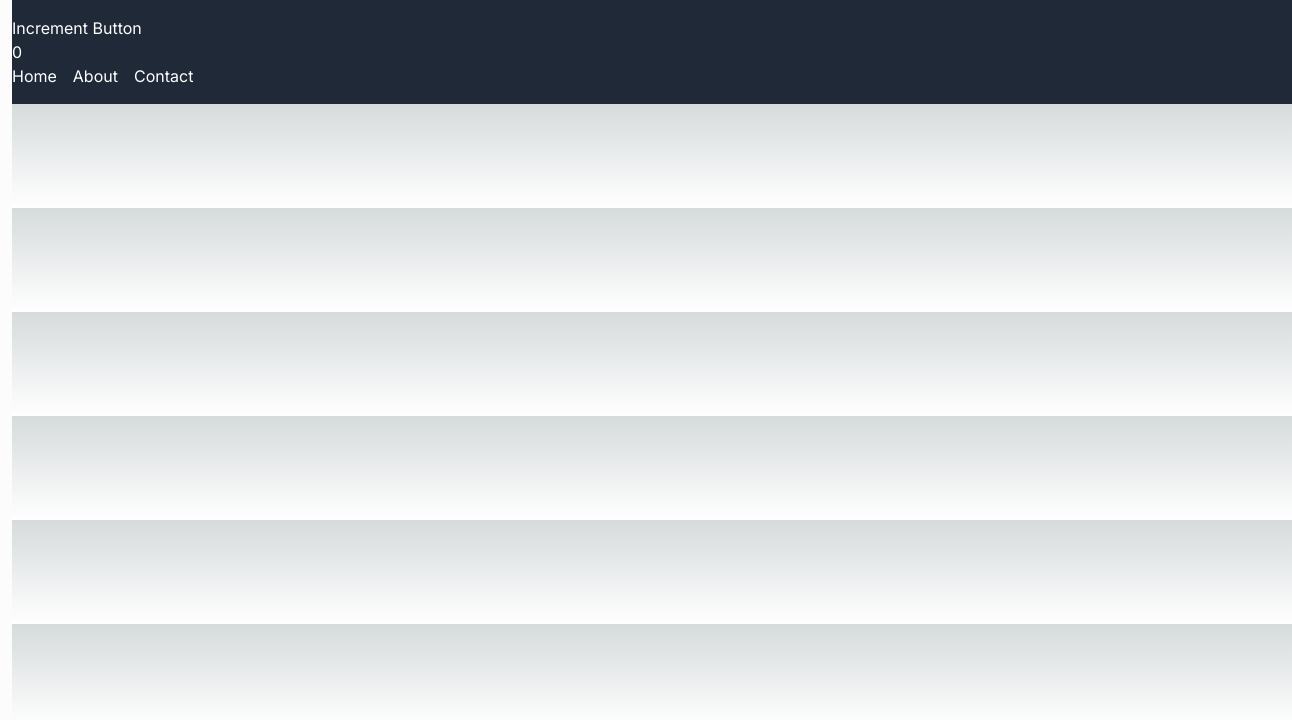
Test: checks for incrementation
# Click the button
Step 1. Click the button "Increment Button" → [77, 28], box [12,16,142,40]
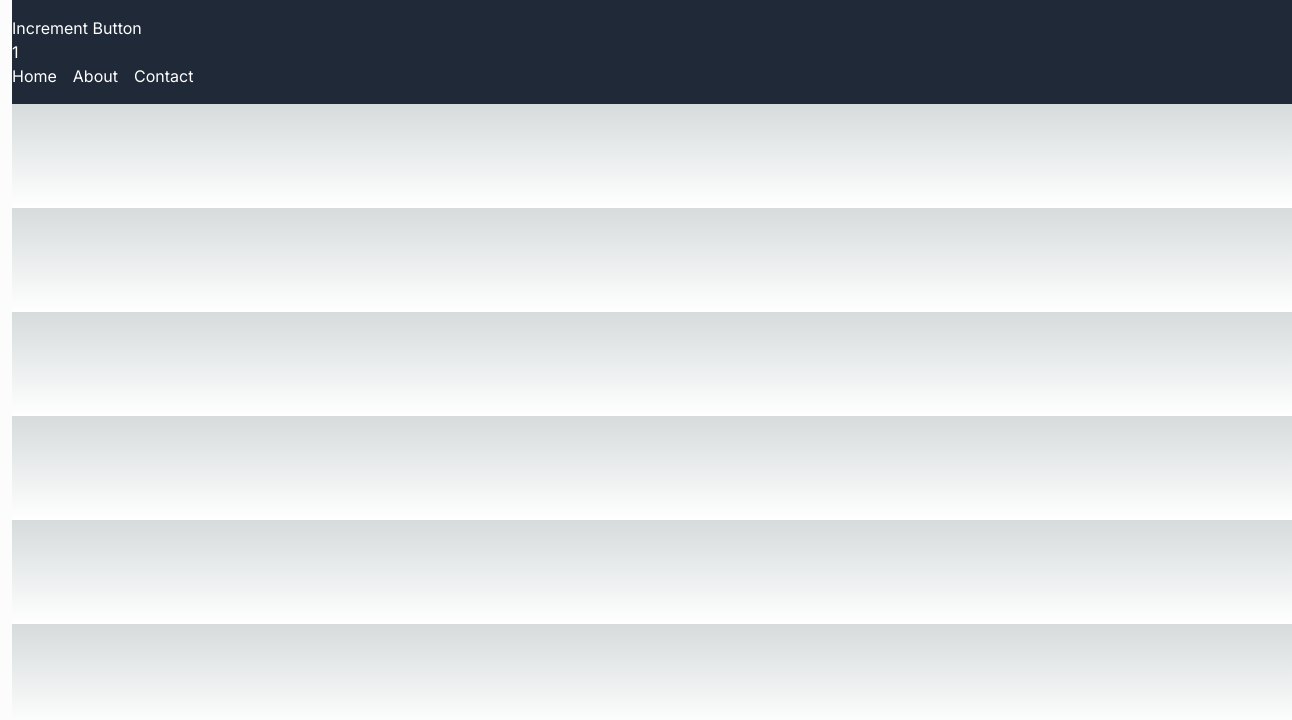
Check: the heading "1" is shown, box [12,42,18,62]
